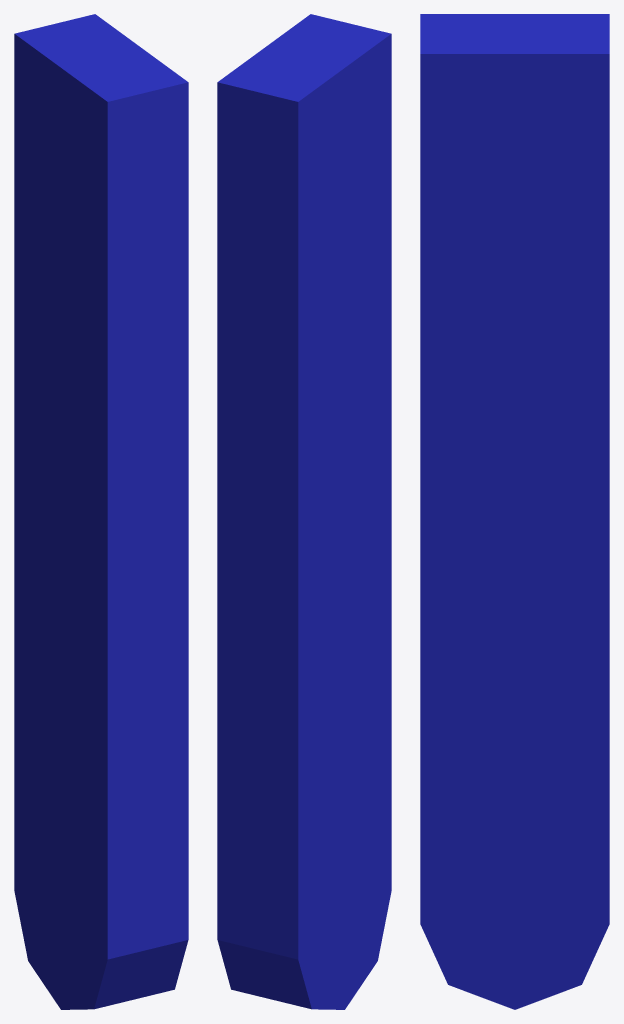
File: arm.fbx
3 views of the same model, side by side, from view 1: azimuth 30°, elevation 25°; view 2: azimuth 150°, elevation 25°; view 3: azimuth 270°, elevation 25° (orthographic).
Parts seen in each view (by area): view 1: 3_Cylinder; view 2: 3_Cylinder; view 3: 3_Cylinder.
Boxes of the visible parts, x1=… form: 3_Cylinder: x1=14, y1=14, x2=188, y2=1009; 3_Cylinder: x1=217, y1=14, x2=391, y2=1009; 3_Cylinder: x1=420, y1=14, x2=609, y2=1009.
Size of the model in its own units: 98.58 by 49.29 by 549.
